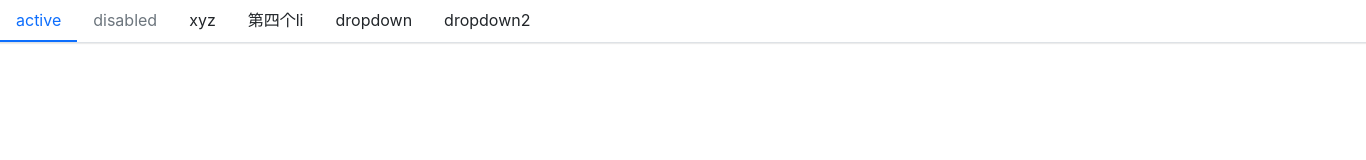
测试菜单和菜单项组件 › 6.通过asnyc+await测试延时出现的元素
Hover over the text "dropdown2".
mouse_move(487, 20)  # box [444,8,530,32]
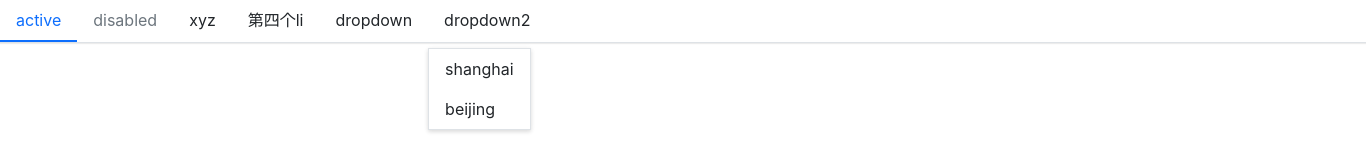
Expected: the list item "shanghai" is shown, [445,59,514,79]
Expected: the list item "beijing" is shown
Click the list item "beijing".
click(470, 109)  # box [445,99,495,119]
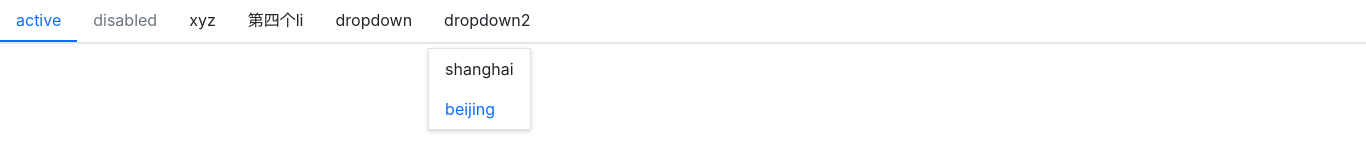
Move the pointer off the text "dropdown2", box [444,8,530,32]
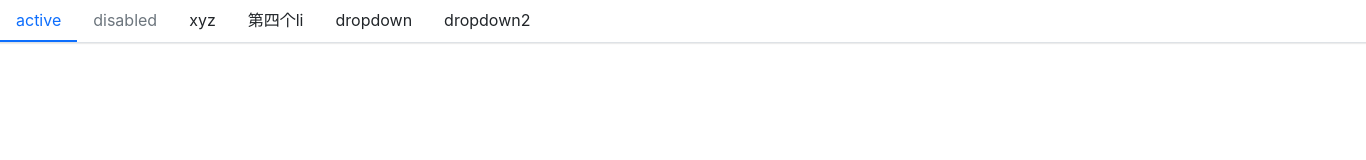
Expected: the list item "shanghai" is gone
Expected: the list item "beijing" is gone
